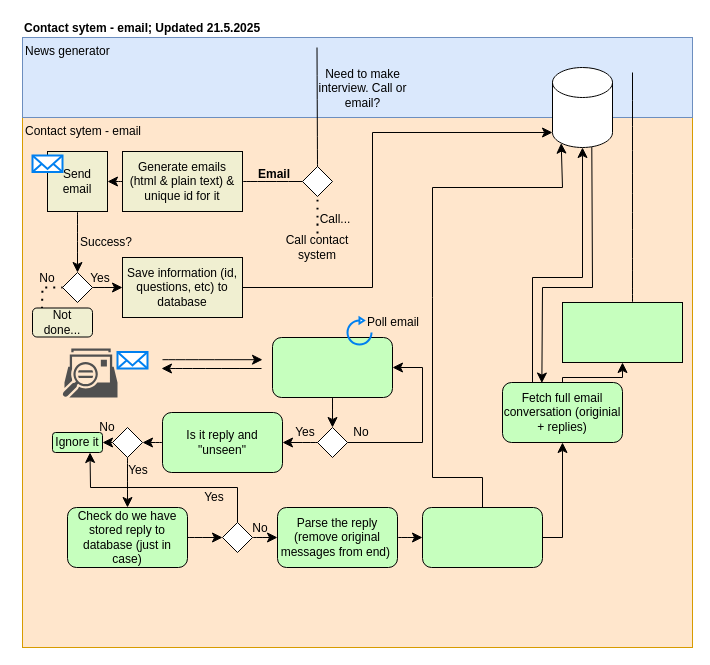
Image size: 710x665. Some labels were removed from this diagram. Here are the shapes that lost their labels. From the top down, the centre of each, then its label:
the point at 582,107: DB
the point at 622,332: Send questions & replies for News generator
the point at 332,367: Check if we have new emails (replies)
the point at 482,537: Store reply to database
